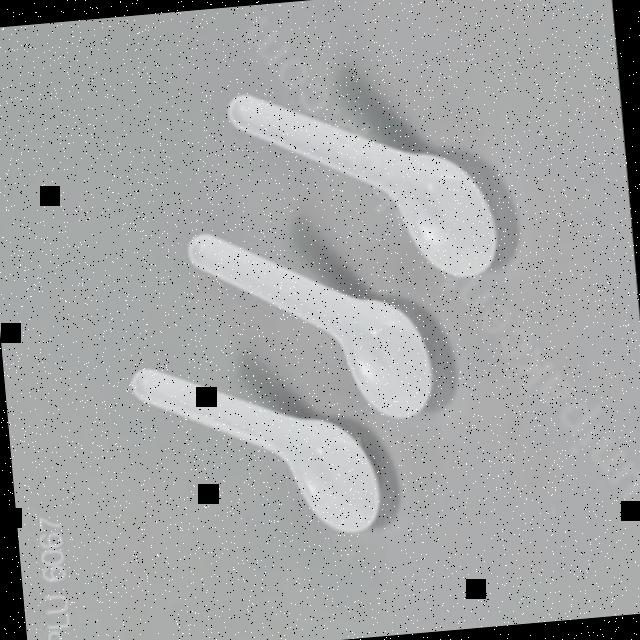plastic_spoon: (110, 73, 526, 553)
